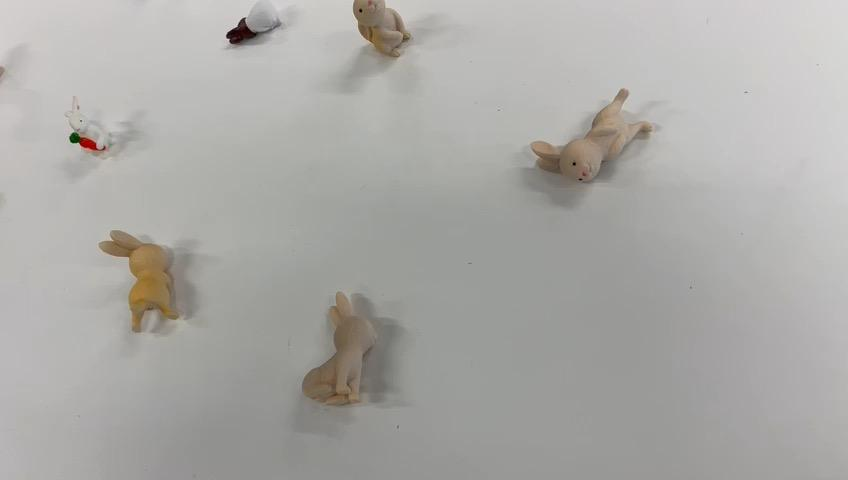pet: (528, 84, 658, 185), (298, 286, 381, 411), (96, 225, 184, 333), (346, 0, 419, 59), (62, 89, 117, 160), (221, 0, 288, 48)
